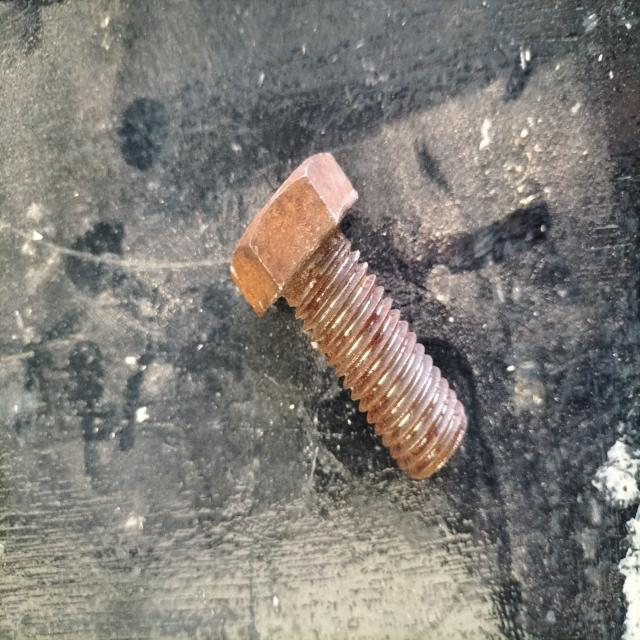bolt: (230, 153, 468, 479)
